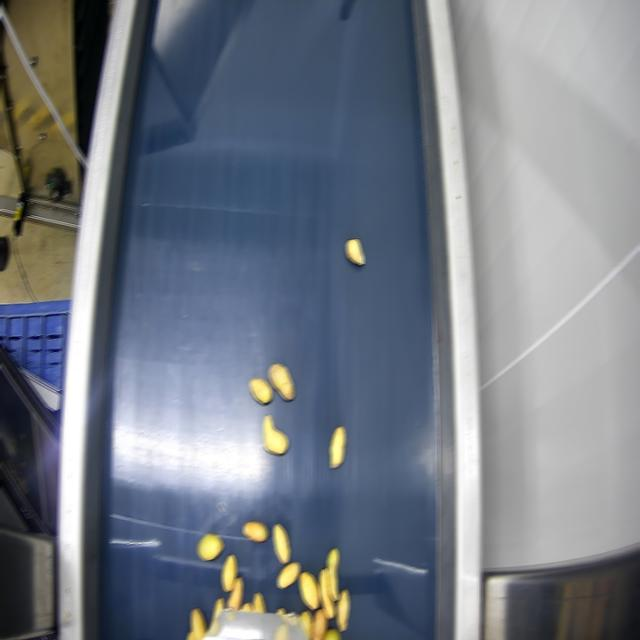Baby Potato: (268, 363, 293, 399), (263, 415, 286, 454), (320, 568, 334, 618), (299, 572, 318, 608), (330, 426, 346, 468), (197, 533, 222, 559), (273, 524, 288, 563), (326, 548, 337, 600), (277, 562, 299, 588), (335, 589, 348, 631), (243, 521, 267, 542), (251, 378, 271, 403), (222, 554, 235, 591), (226, 576, 241, 608), (311, 608, 326, 639), (190, 608, 205, 639), (346, 239, 363, 264), (298, 610, 311, 639), (252, 592, 266, 612), (206, 619, 221, 636), (212, 598, 223, 620), (322, 629, 339, 639), (240, 602, 252, 611), (276, 608, 284, 615)
